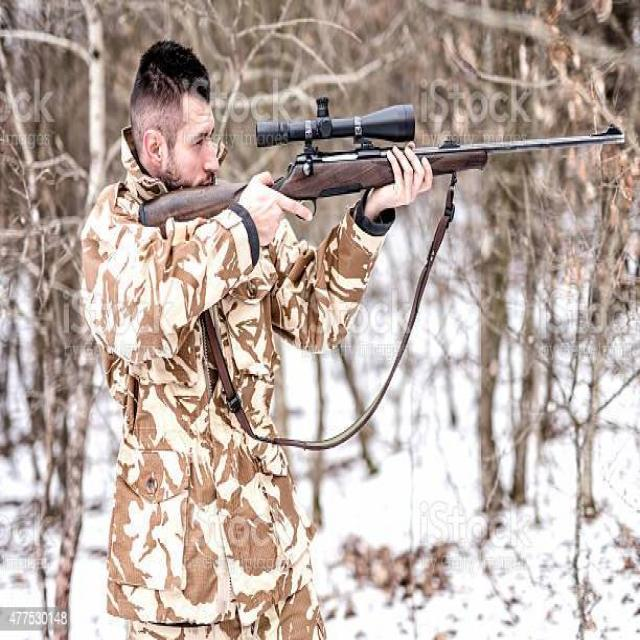rifle: (138, 94, 631, 265)
